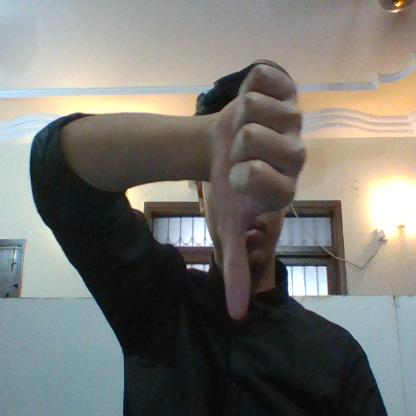thumbs-down: (217, 66, 310, 321)
